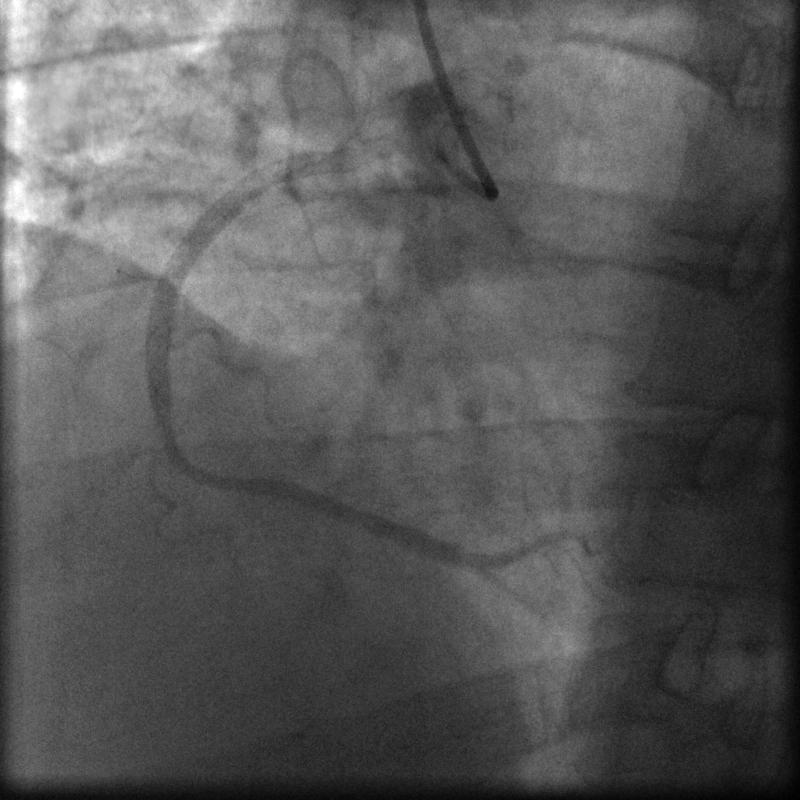Stenosis: (152, 393, 183, 466)
